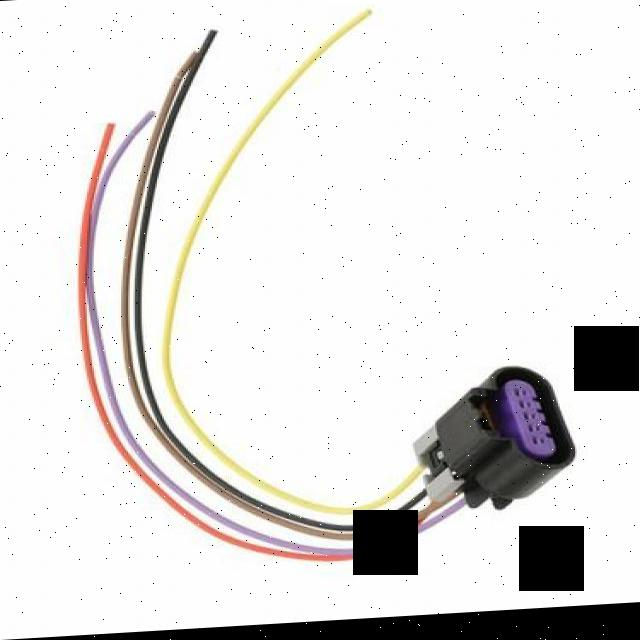connector: (414, 373, 573, 515)
